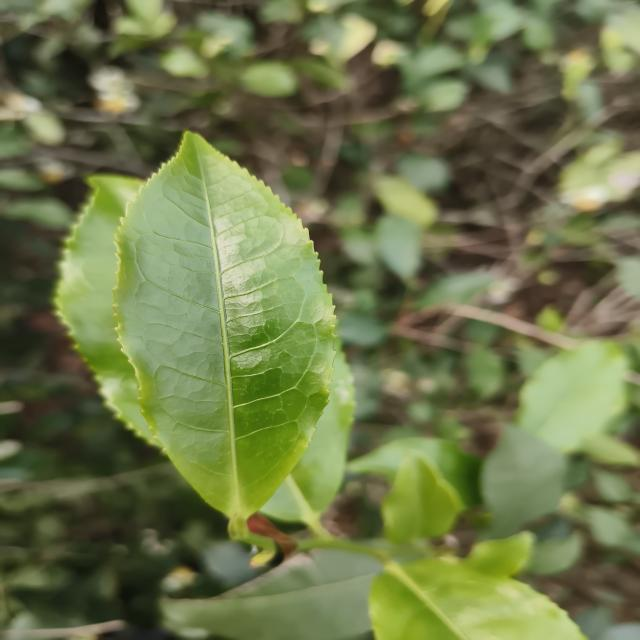Leaf: (114, 132, 335, 530), (55, 175, 159, 446), (160, 550, 381, 640), (261, 342, 355, 528), (369, 559, 583, 640), (517, 340, 627, 453), (480, 426, 566, 539), (348, 437, 481, 508), (382, 452, 462, 544), (464, 531, 534, 577), (418, 270, 496, 309), (376, 215, 421, 281), (526, 532, 583, 575), (241, 62, 297, 97)
